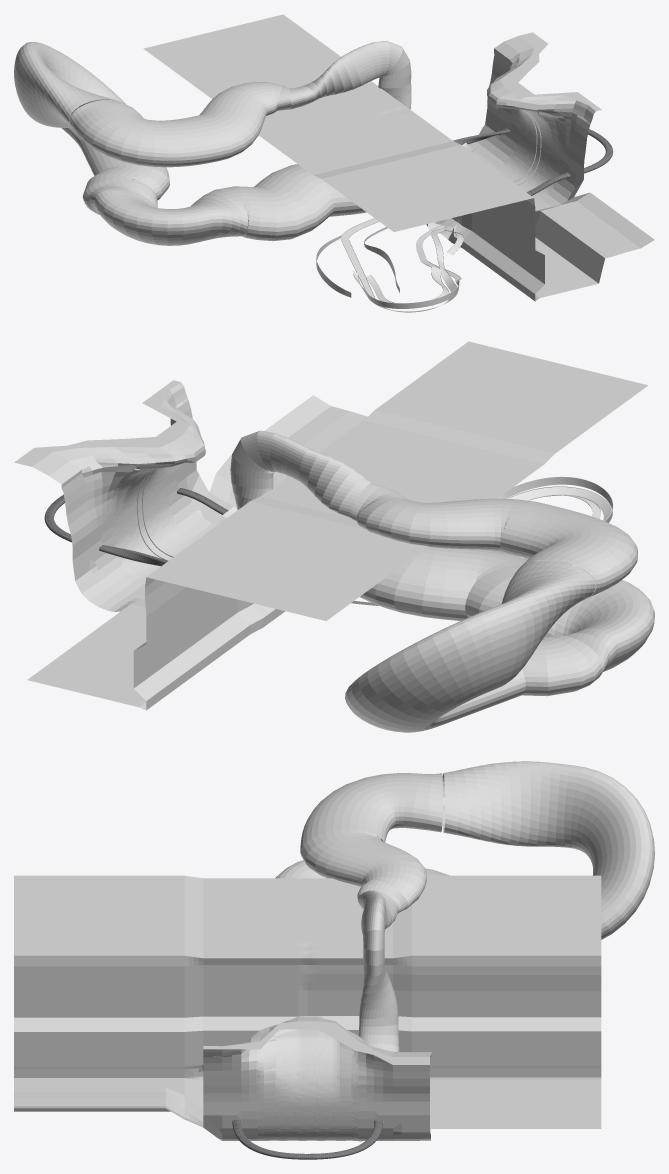
File: Canyon.fbx
3 renders of one model, top to bottom at view 1: azimuth 30°, elevation 25°; view 2: azimuth 150°, elevation 25°; view 3: azimuth 270°, elevation 25°, orthographic. The views are drawn at different scales.
Visible parts, largest first — view 1: Canyon, KillPlane1, KillPlane2, Track_1.006, Track_1.007, Track_1.003, Rails_1.001, Track_1.008; view 2: Canyon, KillPlane1, KillPlane2, Track_1.003, Track_1.007, Track_1.006; view 3: Canyon, KillPlane1, KillPlane2, Track_1.003.
Part boxes in pixels (bbox=[...]): Canyon: bbox=[143, 14, 654, 301]; KillPlane1: bbox=[14, 42, 366, 245]; KillPlane2: bbox=[69, 41, 411, 167]; Track_1.006: bbox=[341, 218, 457, 312]; Track_1.007: bbox=[353, 225, 461, 308]; Track_1.003: bbox=[453, 128, 613, 195]; Rails_1.001: bbox=[316, 110, 541, 297]; Track_1.008: bbox=[365, 266, 449, 305]; Canyon: bbox=[14, 341, 647, 710]; KillPlane1: bbox=[345, 547, 654, 732]; KillPlane2: bbox=[230, 430, 637, 597]; Track_1.003: bbox=[44, 488, 228, 566]; Track_1.007: bbox=[498, 476, 613, 522]; Track_1.006: bbox=[507, 486, 612, 559]; Canyon: bbox=[14, 875, 601, 1141]; KillPlane1: bbox=[275, 761, 654, 939]; KillPlane2: bbox=[300, 773, 442, 1051]; Track_1.003: bbox=[232, 1120, 382, 1159].
Size of the model in its own units: 68475 by 20749 by 67660.
Materials: 8 (1 with a texture image).
